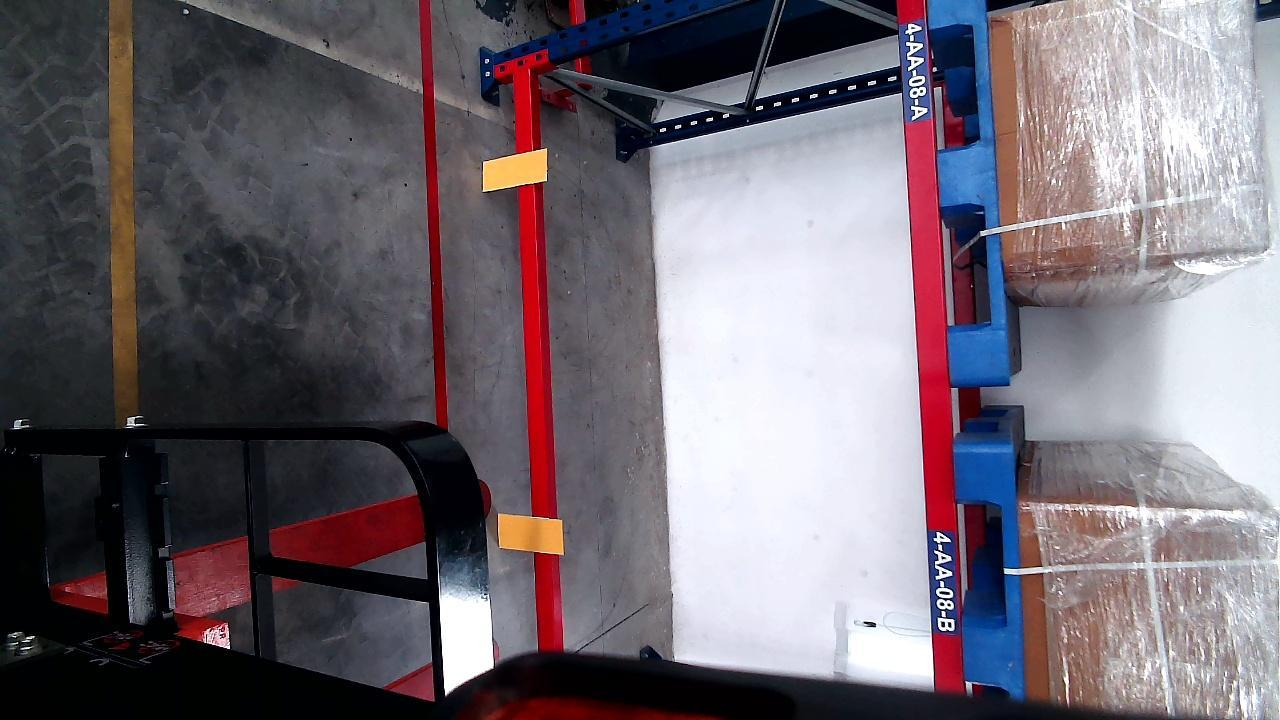red_line: (418, 1, 450, 428)
